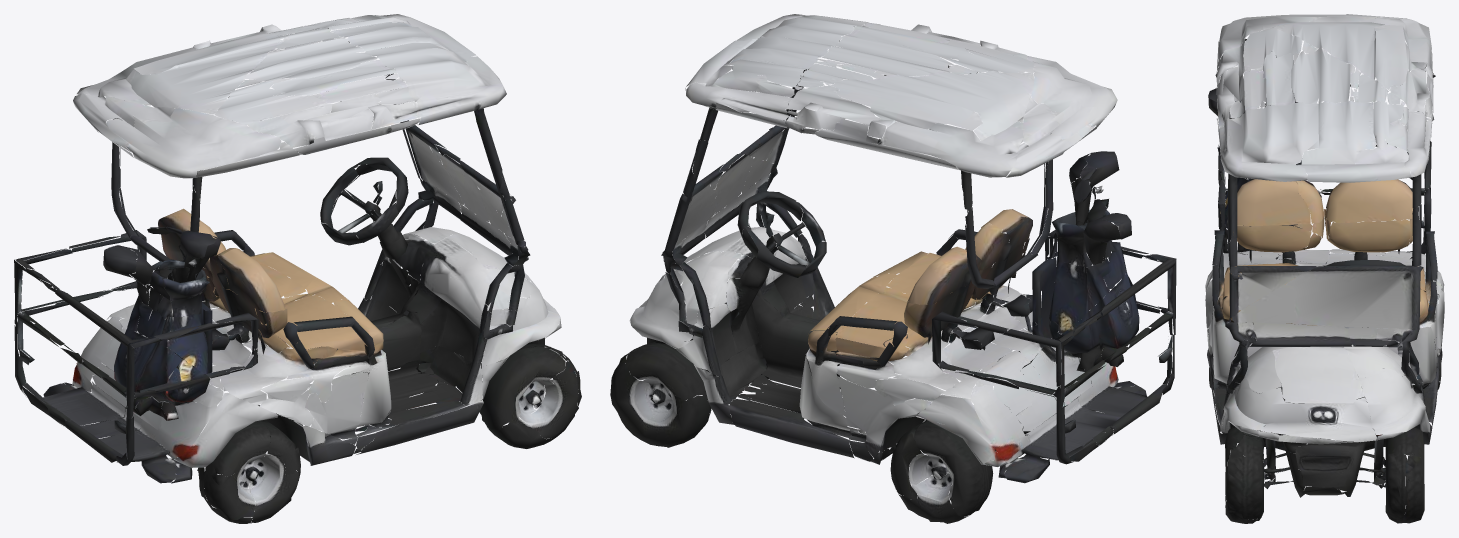
File: cart.glb
3 renders of one model, left to right at view 1: azimuth 30°, elevation 25°; view 2: azimuth 150°, elevation 25°; view 3: azimuth 270°, elevation 25°, orthographic. The views are drawn at different scales.
Visible parts, largest first — view 1: tripo_node_7d638182-3077-4e12-9fc0-676cde04029f; view 2: tripo_node_7d638182-3077-4e12-9fc0-676cde04029f; view 3: tripo_node_7d638182-3077-4e12-9fc0-676cde04029f.
Boxes of the visible parts, box(x1,y1,x2,y2) form: tripo_node_7d638182-3077-4e12-9fc0-676cde04029f: box(14, 14, 581, 523); tripo_node_7d638182-3077-4e12-9fc0-676cde04029f: box(610, 14, 1176, 523); tripo_node_7d638182-3077-4e12-9fc0-676cde04029f: box(1205, 14, 1444, 523).
Bounding box in the file's own units: 0.9972 × 0.8172 × 0.4878.
Materials: 1 (1 with a texture image).
